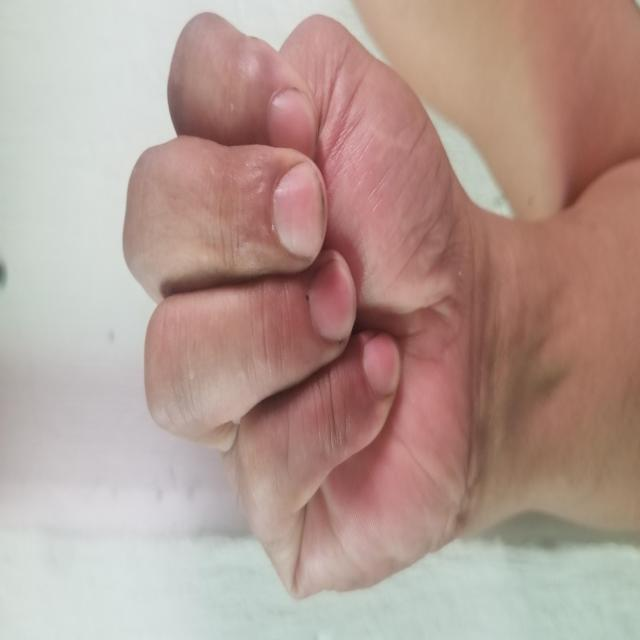M: (20, 7, 482, 613)
